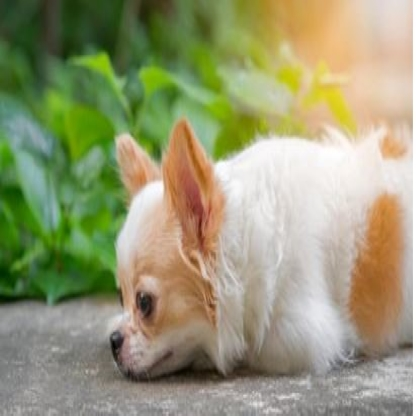chihuahua: (105, 115, 416, 381)
